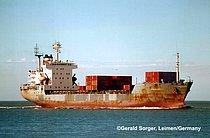Ship: (17, 39, 197, 112)
